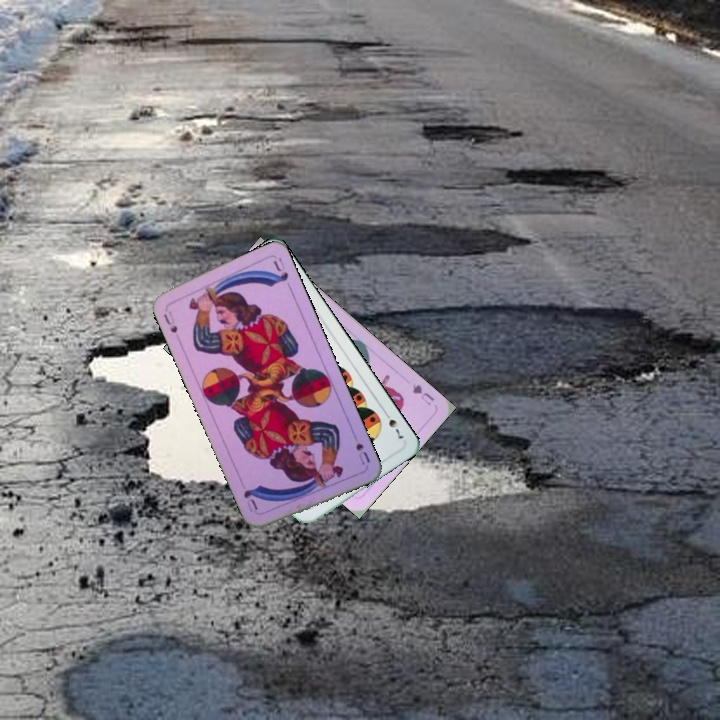GU: (408, 380, 437, 408)
S7: (380, 407, 407, 441)
SU: (348, 428, 372, 467), (159, 310, 180, 336)
